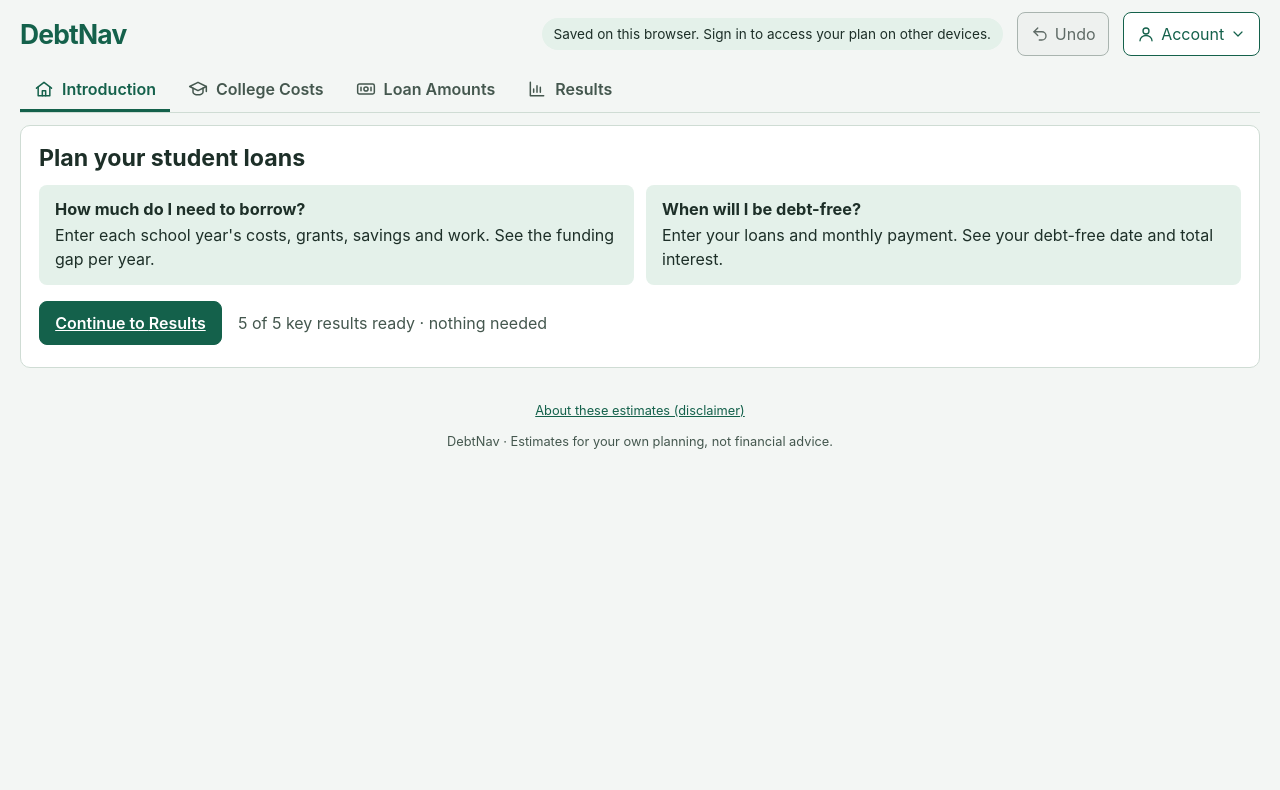
Scenario: review fixes › M3: temporary negative amortization keeps the debt-free date and shows the engine warning instead
This screenshot has width=1280, height=790.
Click the link "Results": coordinates (570, 88) [527,78,612,98]
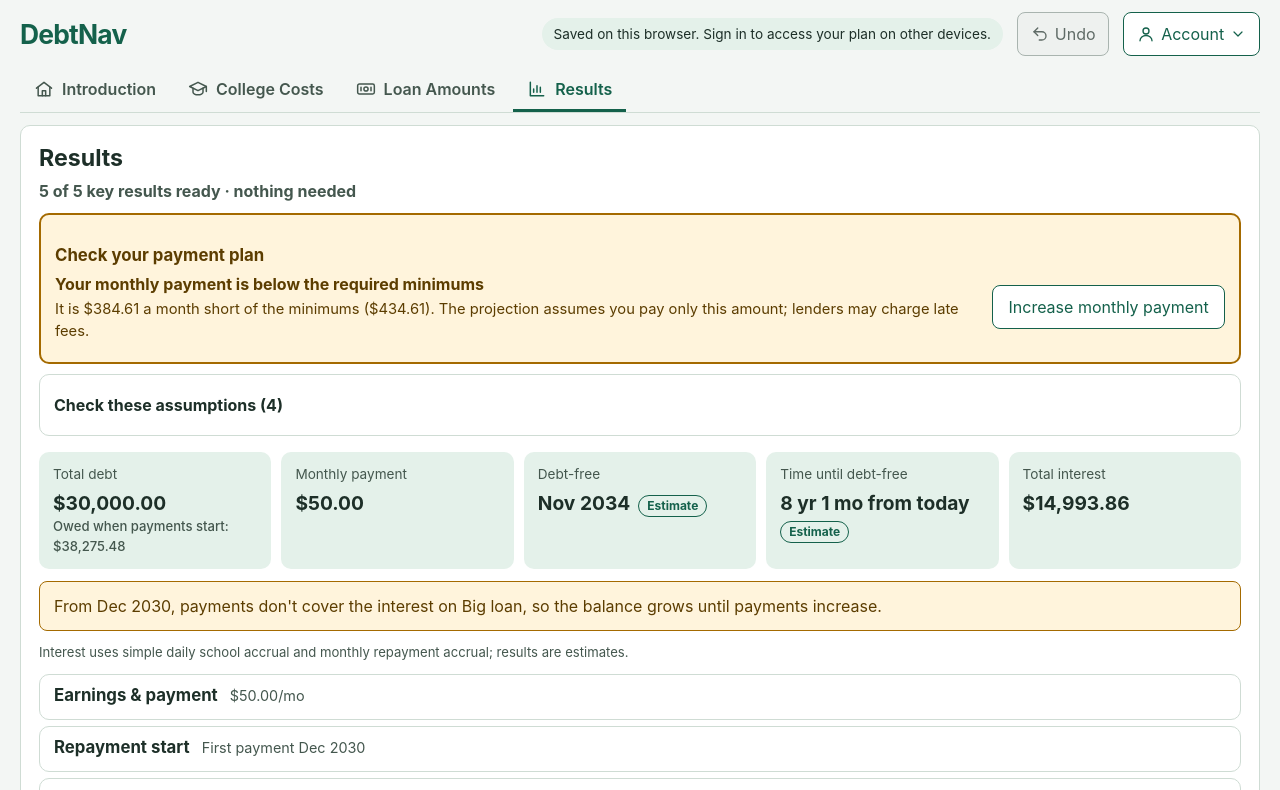
Expected: the text with class "notice" shows "so the balance grows until payments increase", [54,596,882,616]
